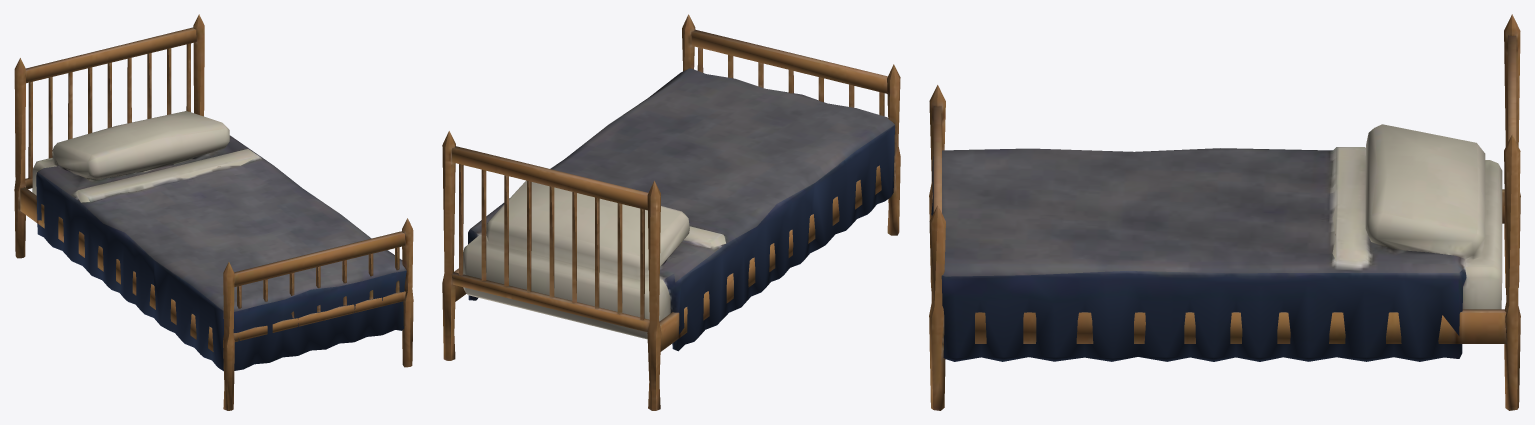
Rendered from bed_single-low.glb.
3 views of the same model, side by side, from view 1: azimuth 30°, elevation 25°; view 2: azimuth 150°, elevation 25°; view 3: azimuth 270°, elevation 25° (orthographic). The views are drawn at different scales.
Parts seen in each view (by area): view 1: bed_single-low; view 2: bed_single-low; view 3: bed_single-low.
Boxes of the visible parts, left/top/right/bottom form: bed_single-low: left=14, top=14, right=413, bottom=410; bed_single-low: left=442, top=14, right=900, bottom=410; bed_single-low: left=929, top=14, right=1520, bottom=410.
Bounding box in the file's own units: 1.01 × 1.01 × 1.98.
Materials: 1 (1 with a texture image).
